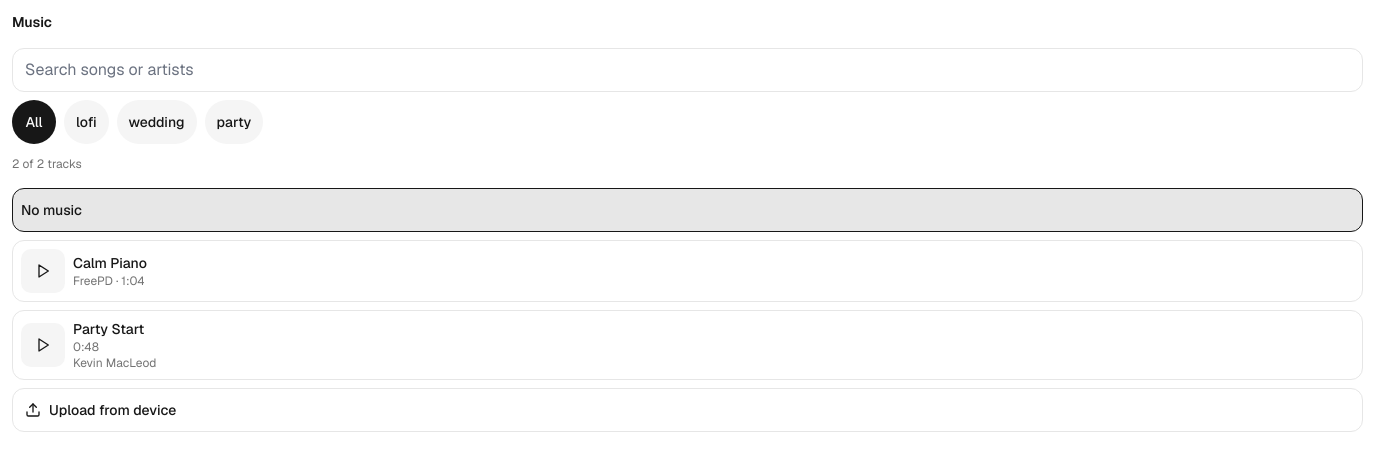
MusicPicker › clears the query on Escape without selecting anything
The width and height of the screenshot is (1378, 449).
Step 1. Type "party" into the search field labelled "Search songs or artists" → (688, 70), box [12,48,1363,92]
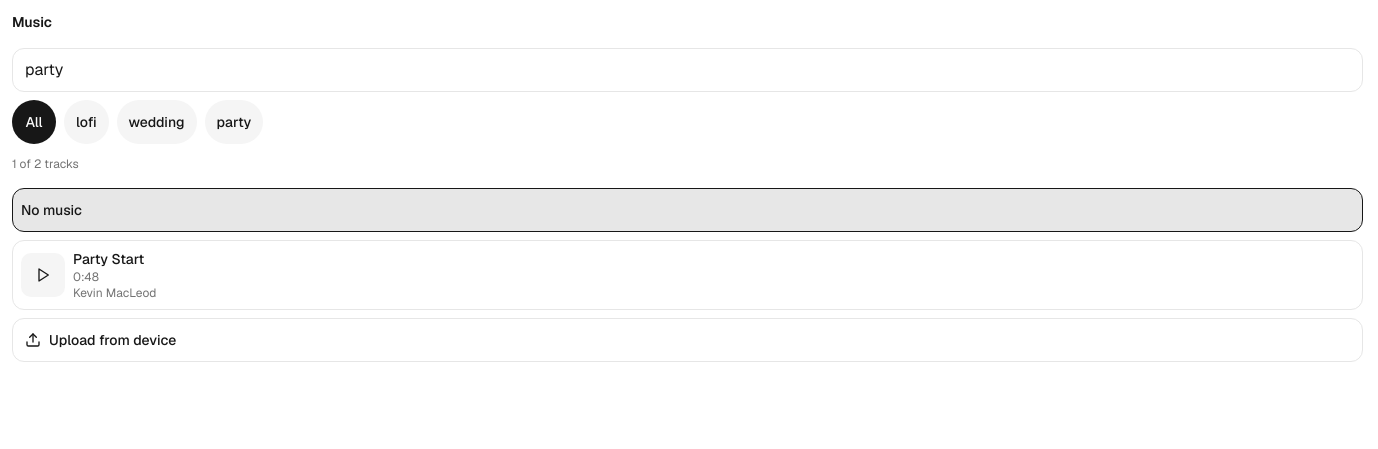
Now the button "Calm Piano" is gone
Step 2. Press Escape in the search field named "Search songs or artists", box [12,48,1363,92]
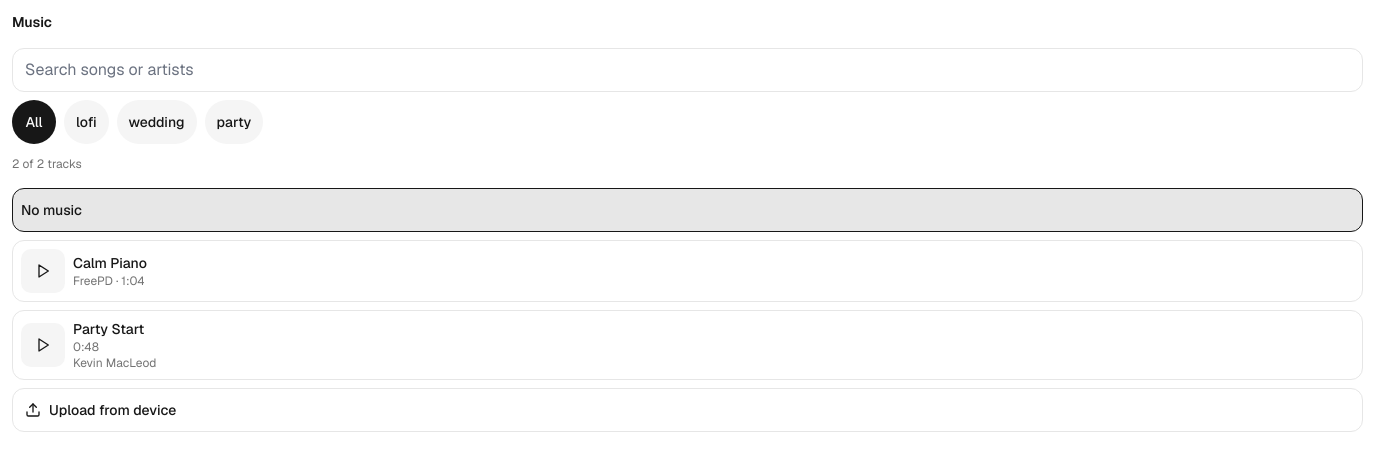
Now the text "Calm Piano" is shown, box [73,254,147,272]
